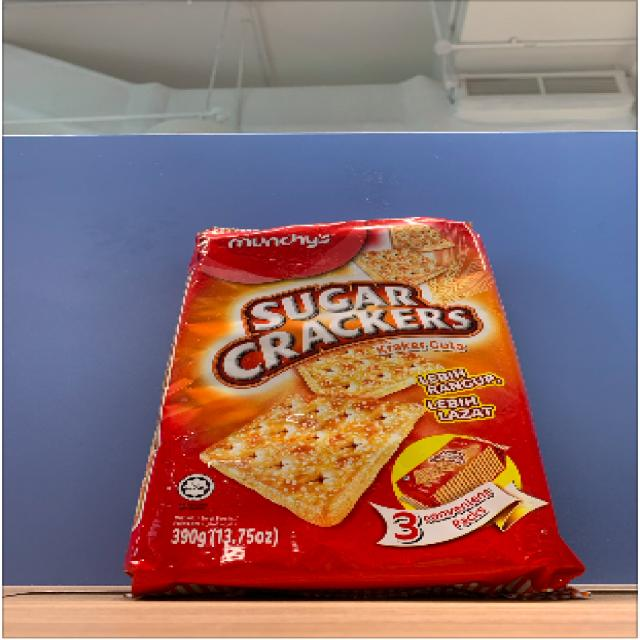object_name: (149, 221, 553, 590)
